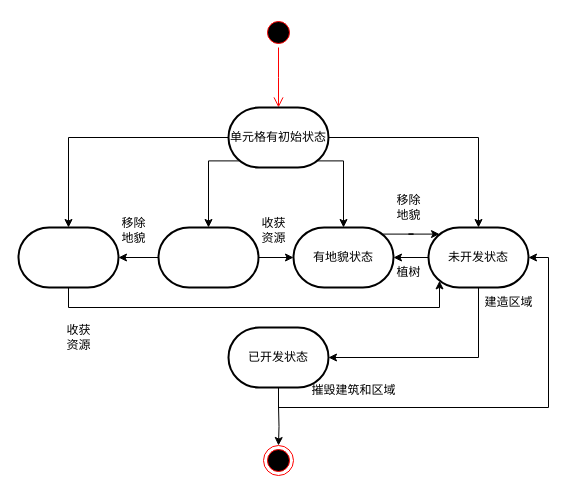
The diagram is 574 pixels wide and 493 high, and some of its shapes have lost their labels. Here are the shapes that lost their labels. From the top down, the centre of each, then its label:
(x=68, y=257): 有资源状态
(x=208, y=257): 有地貌、资源状态
